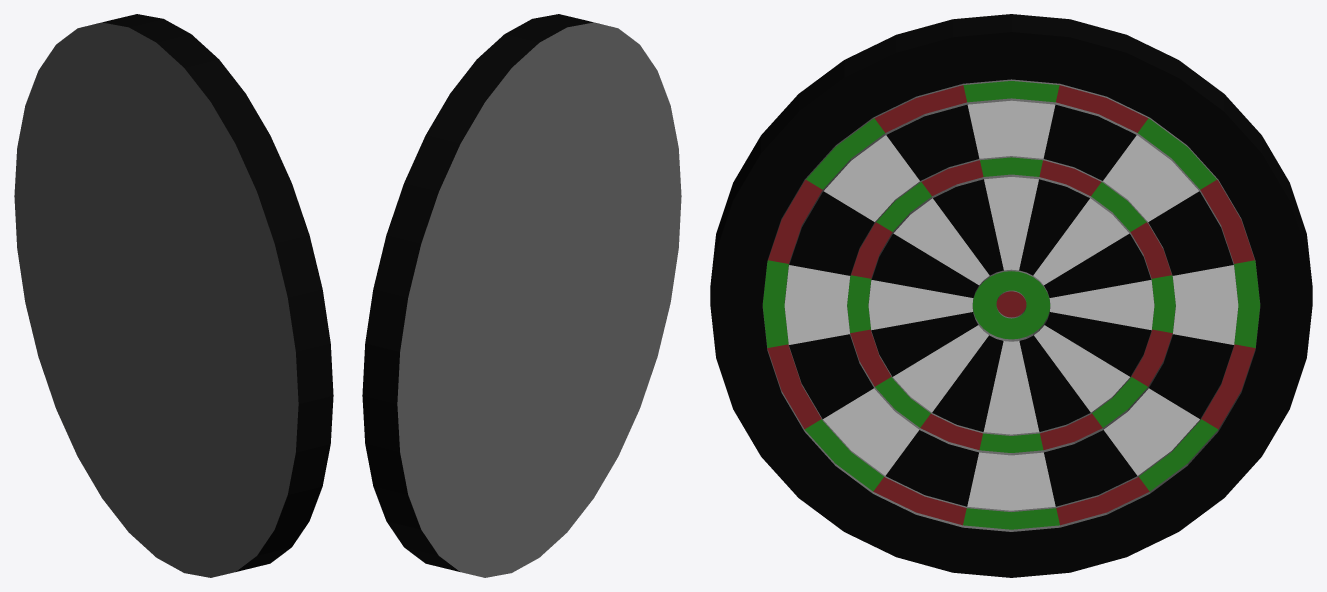
Rendered from alvo.glb.
The picture shows the model from 3 angles, left to right: view 1: azimuth 30°, elevation 25°; view 2: azimuth 150°, elevation 25°; view 3: azimuth 270°, elevation 25°; orthographic projection. The views are drawn at different scales.
Parts seen in each view (by area): view 1: Cylinder; view 2: Cylinder; view 3: Cylinder.
Boxes of the visible parts, <box> form: Cylinder: <box>14,14,333,577</box>; Cylinder: <box>362,14,681,577</box>; Cylinder: <box>710,14,1312,577</box>.
Bounding box in the file's own units: 0.248 × 3.24 × 3.24.
